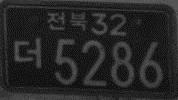2: (81, 39, 106, 87), (109, 12, 127, 37)
3: (90, 12, 107, 35)
5: (53, 37, 78, 85)
6: (138, 40, 163, 90)
8: (110, 40, 134, 89)
더: (14, 36, 43, 69)
전북_O: (46, 10, 88, 32)
